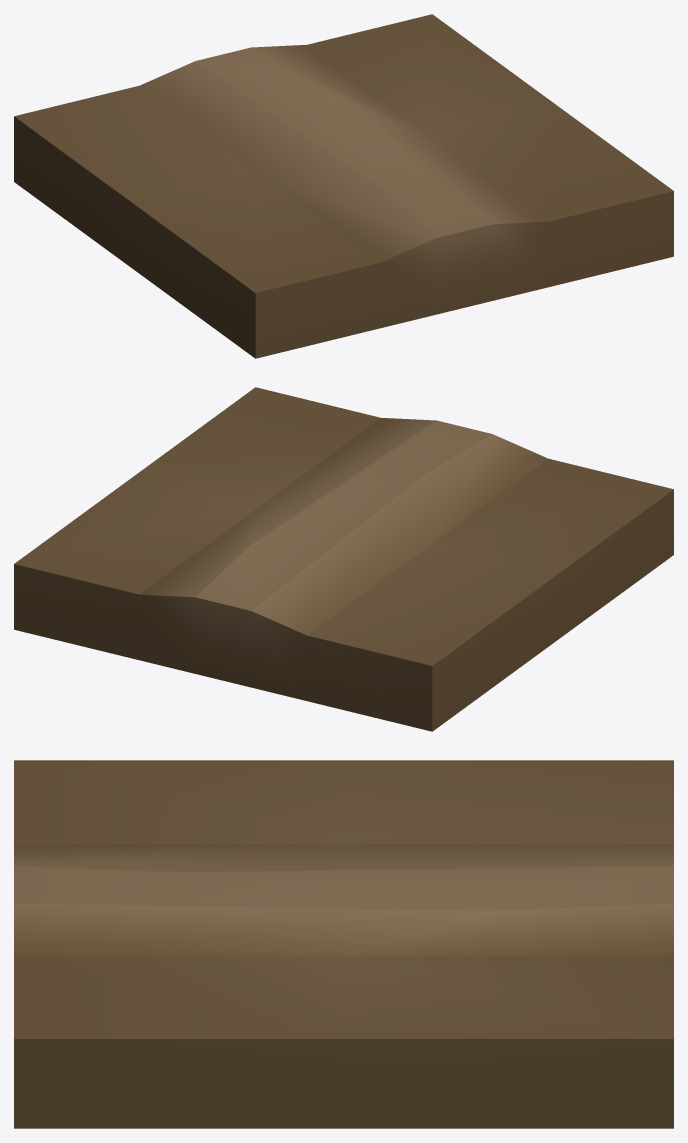
File: Farmland_Soil_Middle.fbx
3 views of the same model, one above another, from view 1: azimuth 30°, elevation 25°; view 2: azimuth 150°, elevation 25°; view 3: azimuth 270°, elevation 25° (orthographic). The views are drawn at different scales.
Parts seen in each view (by area): view 1: Farmland_Soil_Middle.003; view 2: Farmland_Soil_Middle.003; view 3: Farmland_Soil_Middle.003.
Part boxes in pixels (left/top/right/bottom): Farmland_Soil_Middle.003: left=14, top=14, right=673, bottom=358; Farmland_Soil_Middle.003: left=14, top=387, right=673, bottom=731; Farmland_Soil_Middle.003: left=14, top=760, right=673, bottom=1128.
Bounding box in the file's own units: 2 × 0.35 × 2.
1 material, 1 textured.
